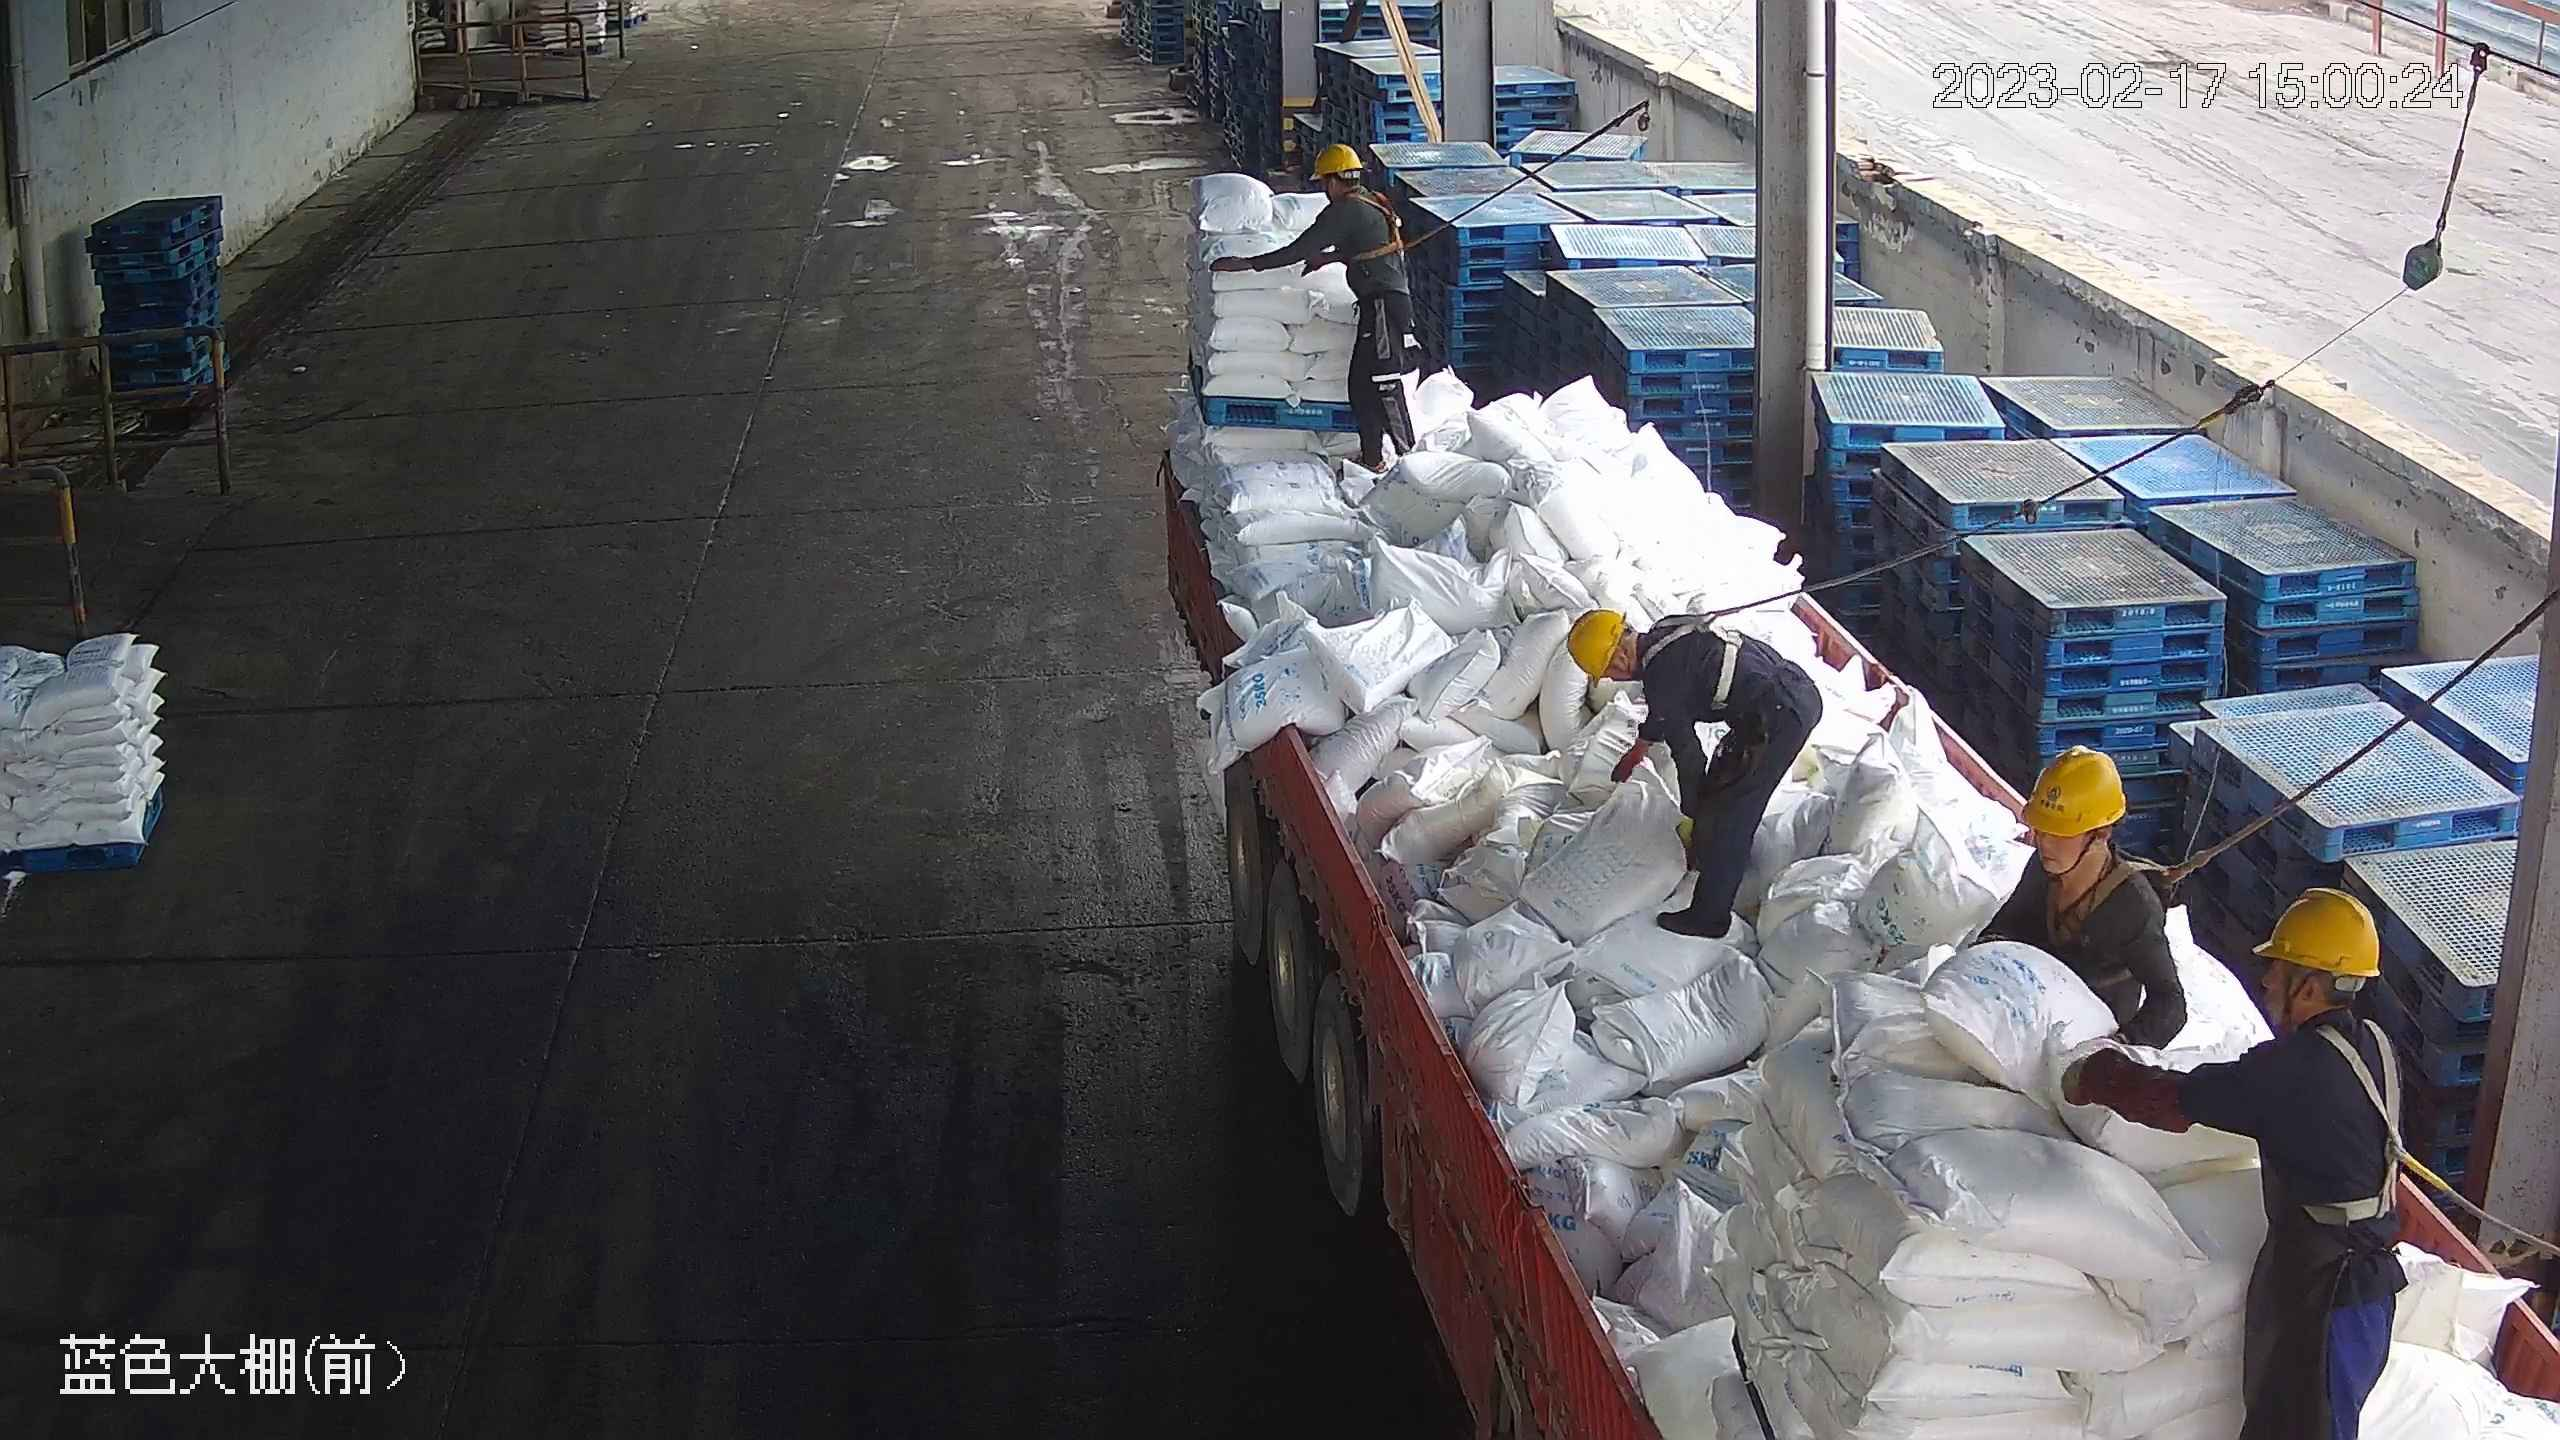belt: (2261, 1016, 2434, 1227), (2024, 842, 2177, 944), (1635, 595, 1763, 702), (1341, 182, 1416, 264)
head: (2222, 884, 2406, 1125), (2004, 743, 2165, 931), (1562, 600, 1726, 725), (1307, 141, 1407, 234)
helmet: (2254, 885, 2385, 981), (2016, 743, 2127, 837), (1568, 605, 1627, 686), (1311, 140, 1363, 178)
people: (2063, 880, 2419, 1435), (1568, 601, 1822, 937), (1213, 141, 1427, 480)
truck: (1145, 333, 2550, 1437)
